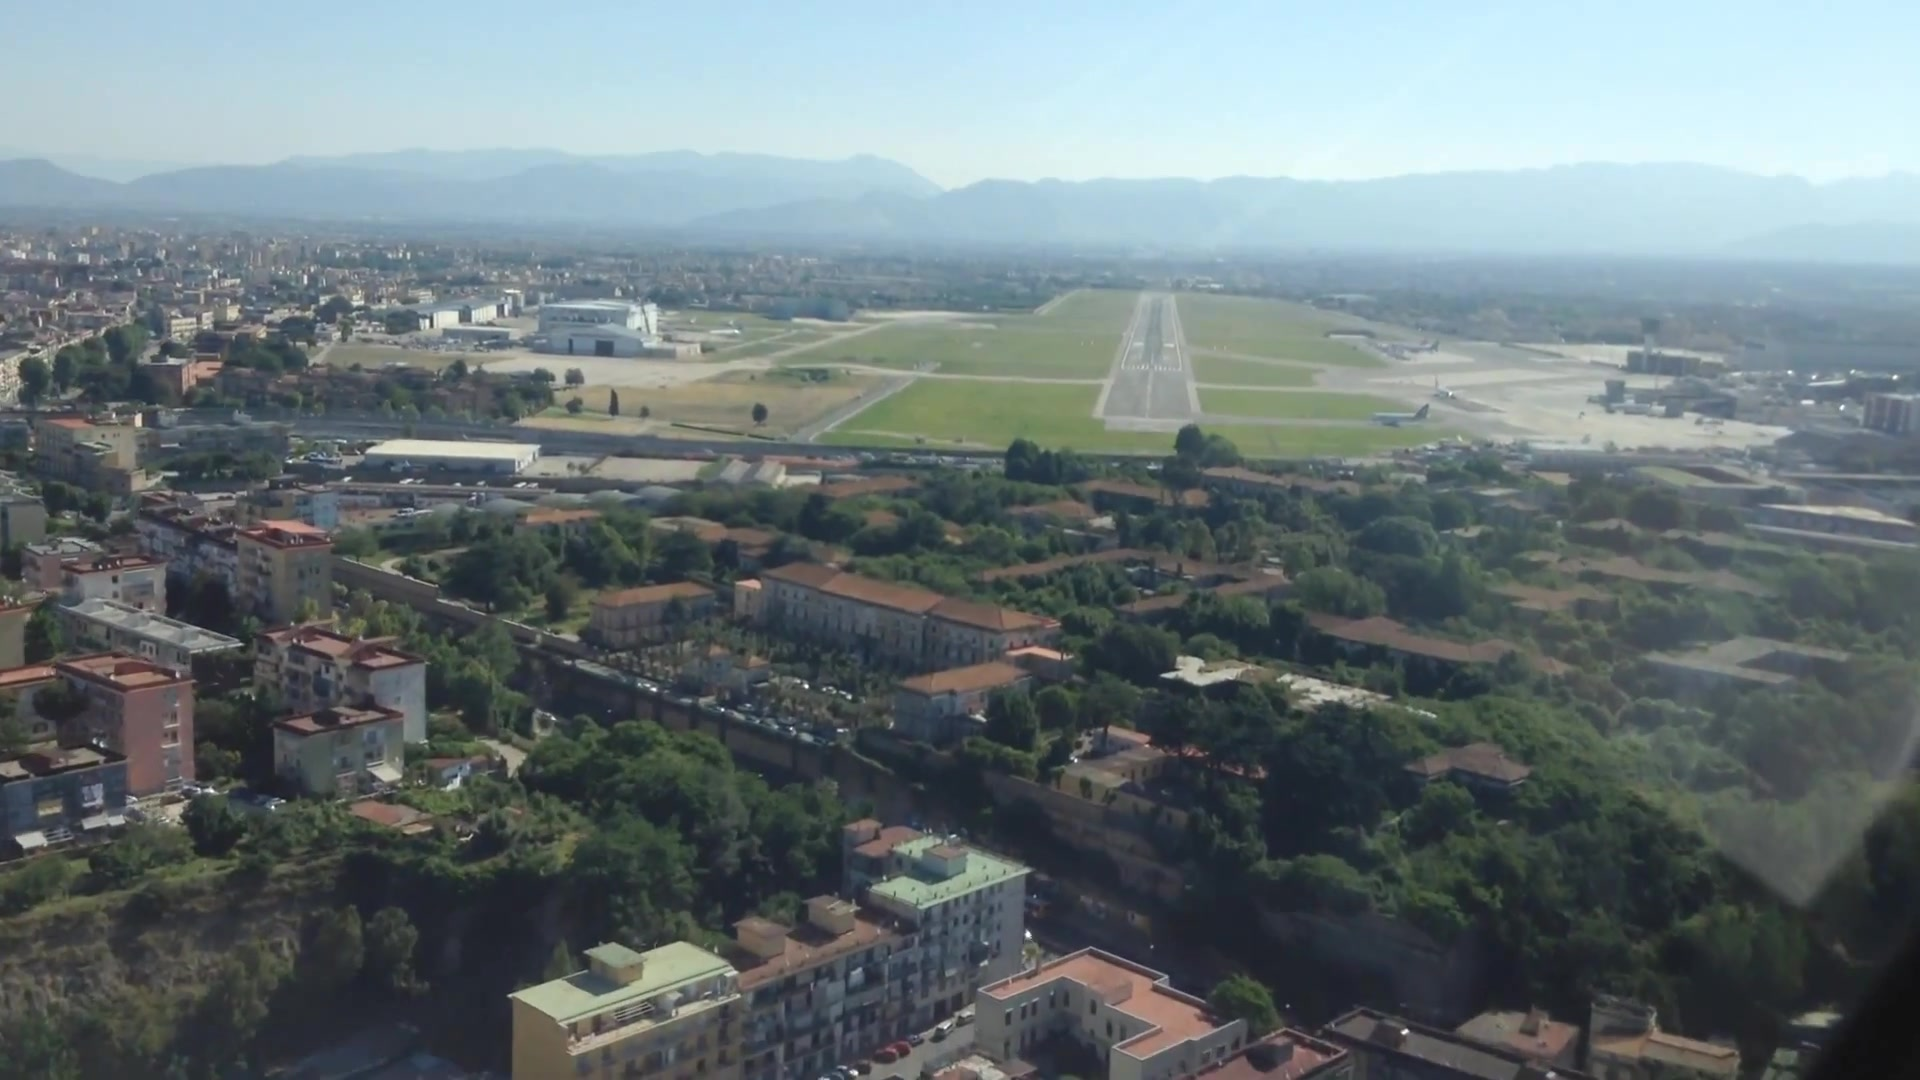entrance: (1120, 360, 1179, 376)
runway: (1097, 290, 1205, 429)
